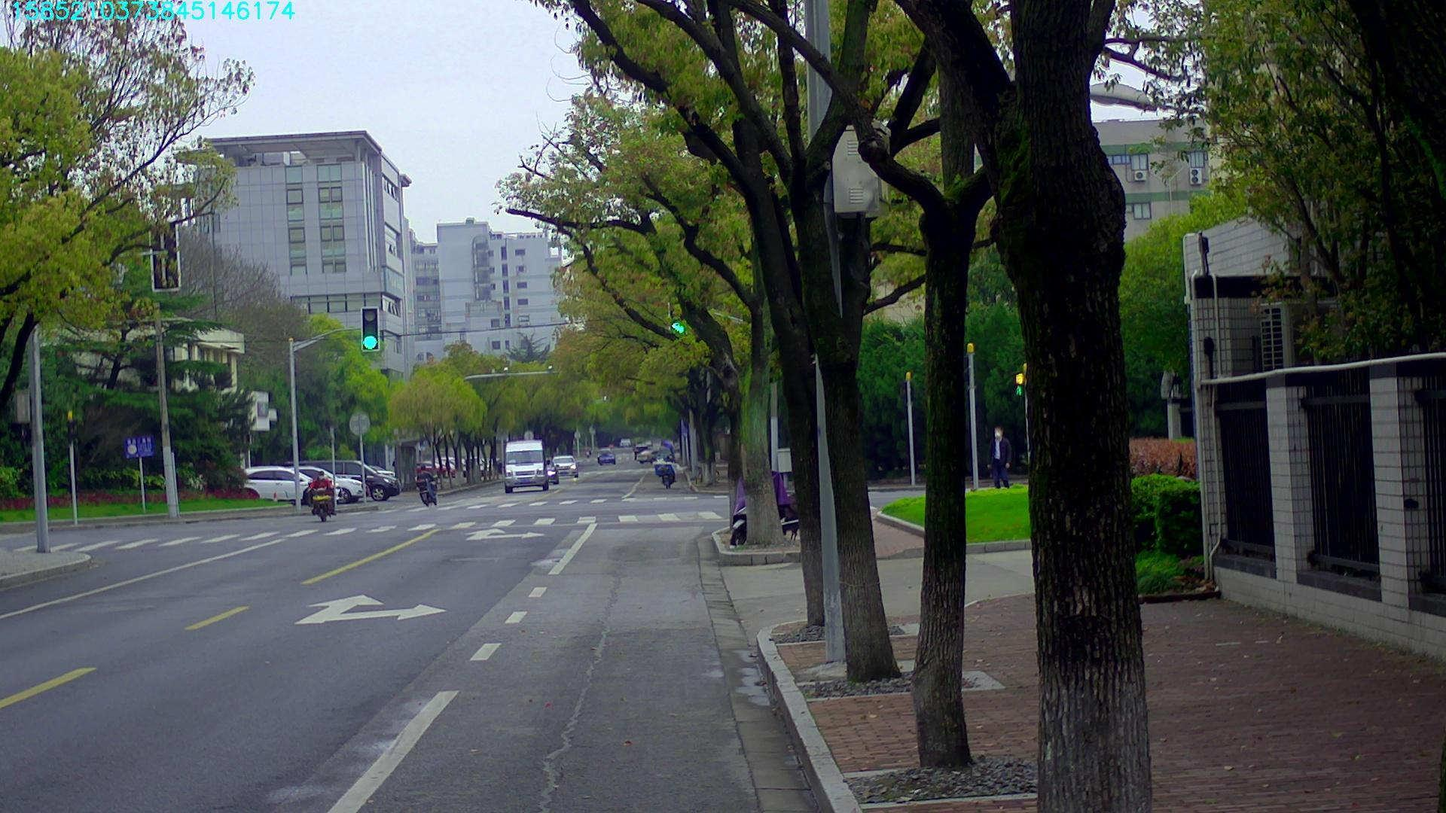green: (361, 306, 378, 350), (668, 291, 685, 333)
